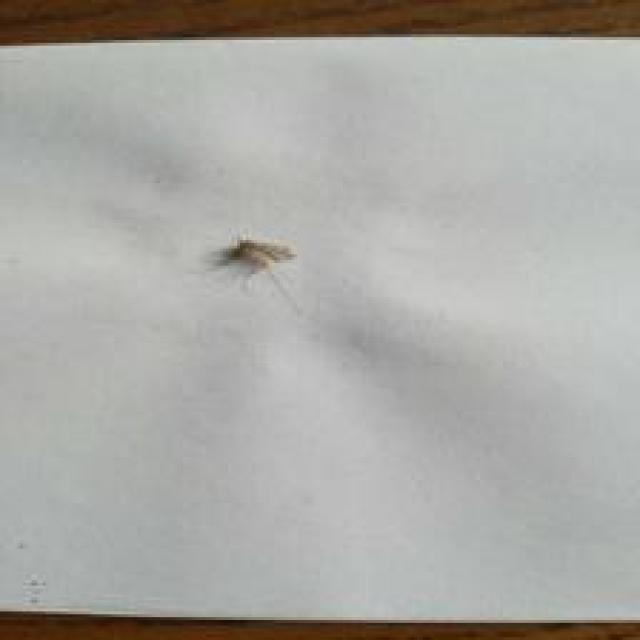Culex: (212, 234, 297, 286)
